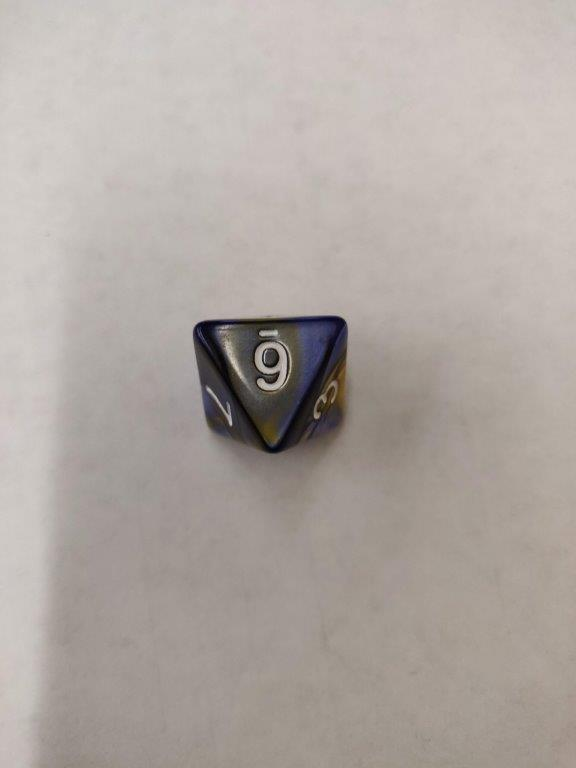d8-6: (190, 316, 349, 445)
